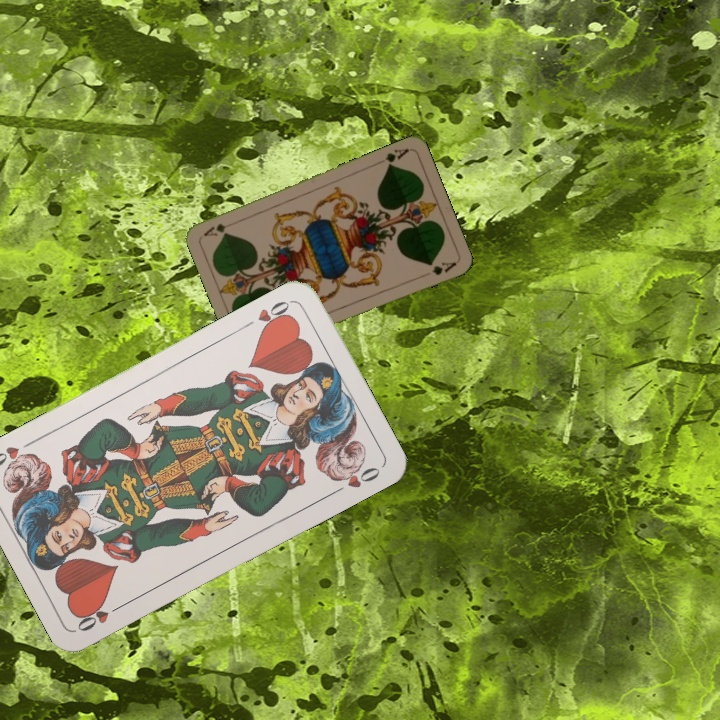GA: (373, 144, 412, 170)
HO: (239, 296, 294, 334), (73, 599, 128, 634)
